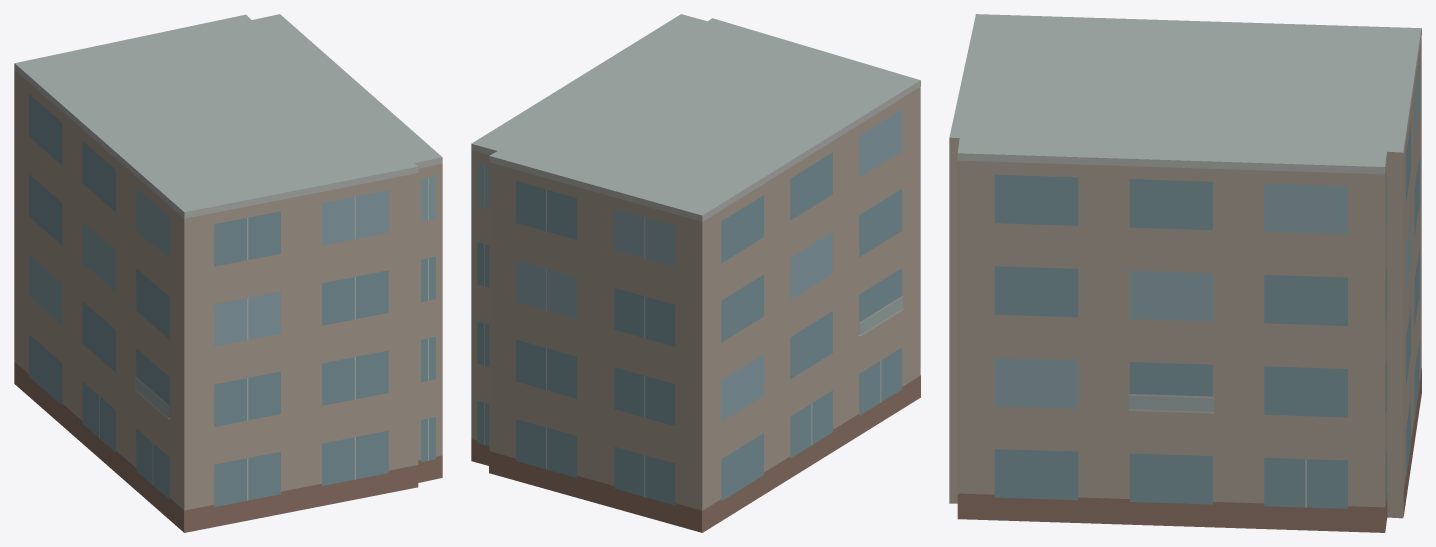
Rendered from survey-upis-32659247.glb.
3 views of the same model, side by side, from view 1: azimuth 30°, elevation 25°; view 2: azimuth 150°, elevation 25°; view 3: azimuth 270°, elevation 25° (orthographic). The views are drawn at different scales.
Visible parts, largest first — view 1: survey-upis-32659247.tmp; view 2: survey-upis-32659247.tmp; view 3: survey-upis-32659247.tmp.
Boxes of the visible parts, bbox=[...] form: survey-upis-32659247.tmp: bbox=[14, 14, 442, 532]; survey-upis-32659247.tmp: bbox=[471, 14, 920, 532]; survey-upis-32659247.tmp: bbox=[949, 14, 1421, 532].
Bounding box in the file's own units: 10.96 × 12.2 × 14.29.
